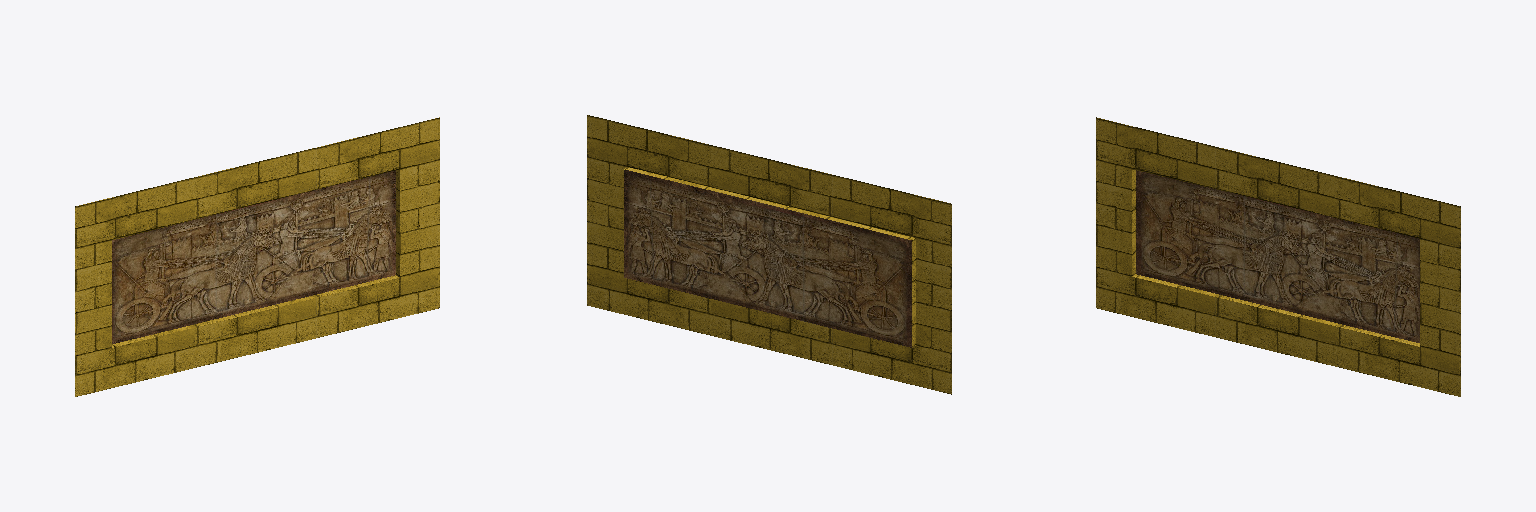
The picture shows the model from 3 angles: view 1: azimuth 30°, elevation 25°; view 2: azimuth 150°, elevation 25°; view 3: azimuth 330°, elevation 25°; orthographic projection.
Visible parts, largest first — view 1: cavaleryRelief; view 2: cavaleryRelief; view 3: cavaleryRelief.
Boxes of the visible parts, x1=… form: cavaleryRelief: x1=75, y1=117, x2=439, y2=396; cavaleryRelief: x1=587, y1=115, x2=951, y2=394; cavaleryRelief: x1=1096, y1=117, x2=1460, y2=396.
Bounding box in the file's own units: 600 × 300 × 10.
3 materials, 3 textured.